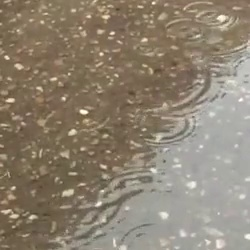drop: (135, 106, 197, 142), (118, 223, 162, 250), (75, 100, 109, 132), (164, 16, 203, 42), (195, 8, 235, 30), (133, 42, 155, 57)
